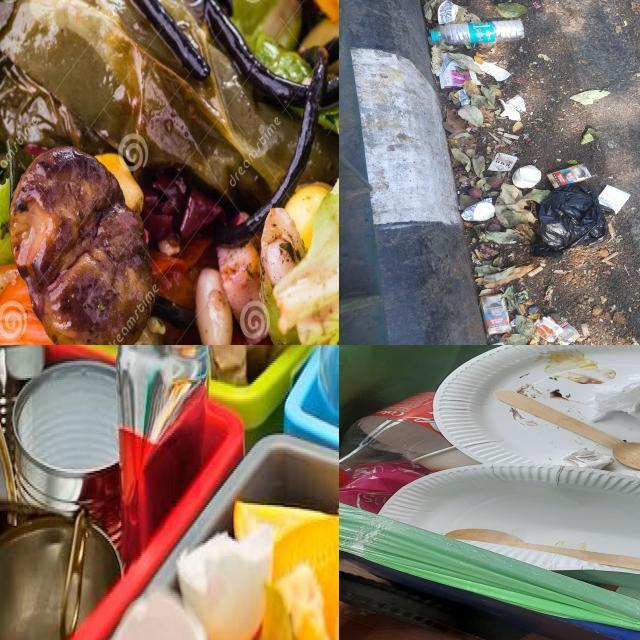Background: (416, 0, 640, 345)
Cig_bud: (526, 266, 543, 277), (503, 133, 520, 140), (608, 223, 616, 237), (582, 323, 590, 336), (501, 137, 512, 145)
Cig_pack: (479, 293, 511, 334), (546, 165, 592, 189)
Disposable: (435, 345, 640, 477), (380, 463, 640, 557)
Garbage: (0, 345, 339, 640), (339, 345, 640, 601)
Plastic_Bag: (530, 184, 607, 258)
Plastic_bottle: (339, 391, 453, 485)
Plastic_wraper: (339, 465, 432, 513), (535, 316, 580, 345), (488, 152, 518, 172), (533, 2, 541, 9)
can: (116, 345, 211, 561)
tin_box: (13, 361, 120, 547), (0, 511, 121, 640), (0, 345, 45, 459)
